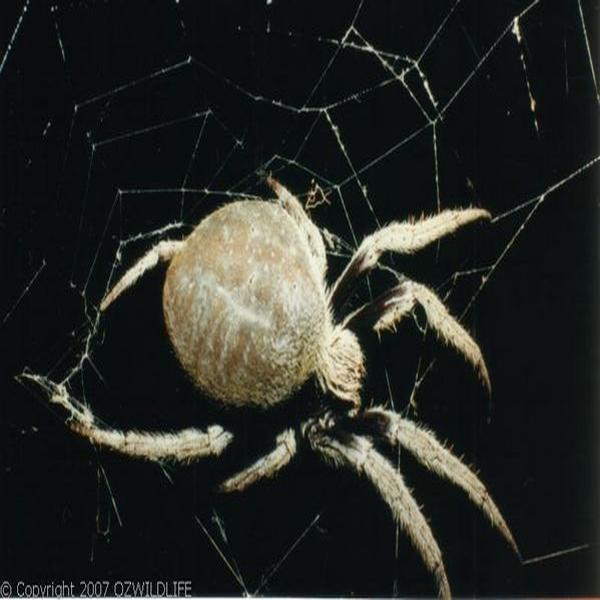Garden Orb Weaver Spider: (75, 181, 514, 591)
